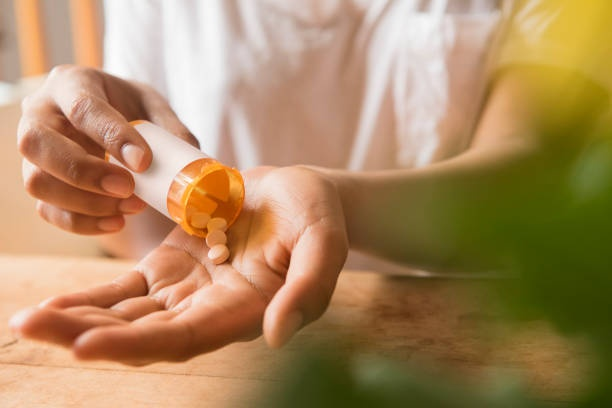pills: (204, 242, 229, 267), (207, 226, 229, 252), (208, 215, 229, 242)
